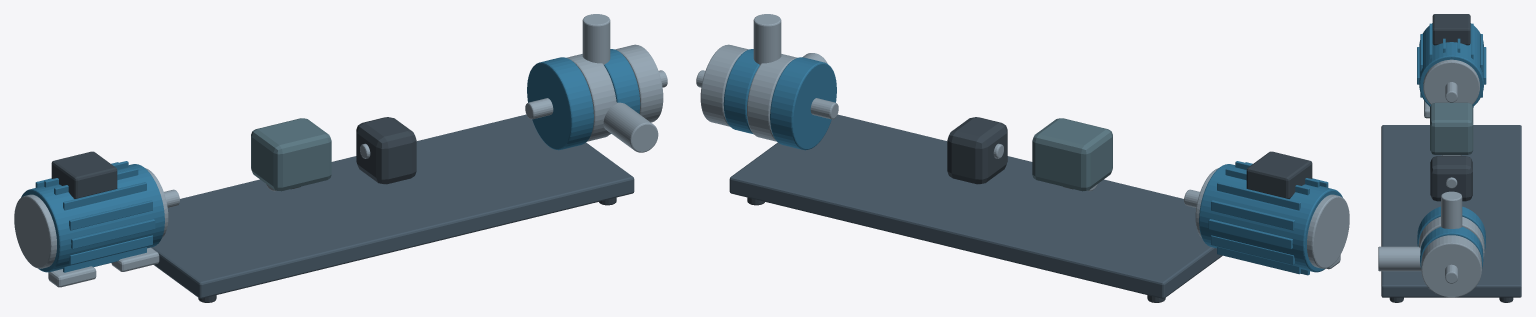
The model's file is feed-water-pump-lod0.glb.
3 renders of one model, left to right at view 1: azimuth 30°, elevation 25°; view 2: azimuth 150°, elevation 25°; view 3: azimuth 270°, elevation 25°, orthographic. The views are drawn at different scales.
Visible parts, largest first — view 1: drive_base, motor, coupling_guard, feed_water_stage_1, pump_drive_bearing_housing, motor_rear_endcap, motor_terminal_box, feed_water_stage_4, feed_water_inlet, feed_water_stage_2, feed_water_outlet, feed_water_stage_3 (+8 smaller); view 2: drive_base, motor, coupling_guard, feed_water_stage_1, pump_drive_bearing_housing, motor_rear_endcap, motor_terminal_box, feed_water_stage_2, feed_water_stage_4, feed_water_stage_3, feed_water_outlet, motor_cooling_fin_00 (+5 smaller); view 3: drive_base, feed_water_stage_4, coupling_guard, motor_front_endcap, motor, pump_drive_bearing_housing, motor_terminal_box, feed_water_inlet, feed_water_outlet, feed_water_stage_3, feed_water_stage_1, feed_water_stage_2 (+8 smaller).
Part boxes in pixels (x1,y1,x2,y2): drive_base: (151,114,634,298); motor: (21,164,164,272); coupling_guard: (251,118,331,191); feed_water_stage_1: (527,57,593,150); pump_drive_bearing_housing: (356,117,416,184); motor_rear_endcap: (14,194,56,268); motor_terminal_box: (51,151,117,198); feed_water_stage_4: (615,44,663,122); feed_water_inlet: (603,102,658,152); feed_water_stage_2: (566,54,616,141); feed_water_outlet: (582,14,610,64); feed_water_stage_3: (604,49,640,134); drive_base: (729,114,1222,298); motor: (1199,164,1342,272); coupling_guard: (1032,118,1112,191); feed_water_stage_1: (770,57,836,150); pump_drive_bearing_housing: (947,117,1007,184); motor_rear_endcap: (1307,194,1349,268); motor_terminal_box: (1246,151,1312,198); feed_water_stage_2: (747,54,797,141); feed_water_stage_4: (700,44,748,126); feed_water_stage_3: (723,49,759,134); feed_water_outlet: (753,14,781,64); motor_cooling_fin_00: (1208,219,1292,249); drive_base: (1381,125,1521,297); feed_water_stage_4: (1421,235,1481,297); coupling_guard: (1430,102,1473,154); motor_front_endcap: (1423,59,1479,104); motor: (1419,23,1483,106); pump_drive_bearing_housing: (1430,156,1472,201); motor_terminal_box: (1432,14,1470,45); feed_water_inlet: (1378,246,1421,271); feed_water_outlet: (1441,191,1462,228); feed_water_stage_3: (1420,227,1483,268); feed_water_stage_1: (1417,206,1485,250); feed_water_stage_2: (1418,216,1484,259).
Size of the model in its own units: 12.63 by 2.87 by 3.27.
